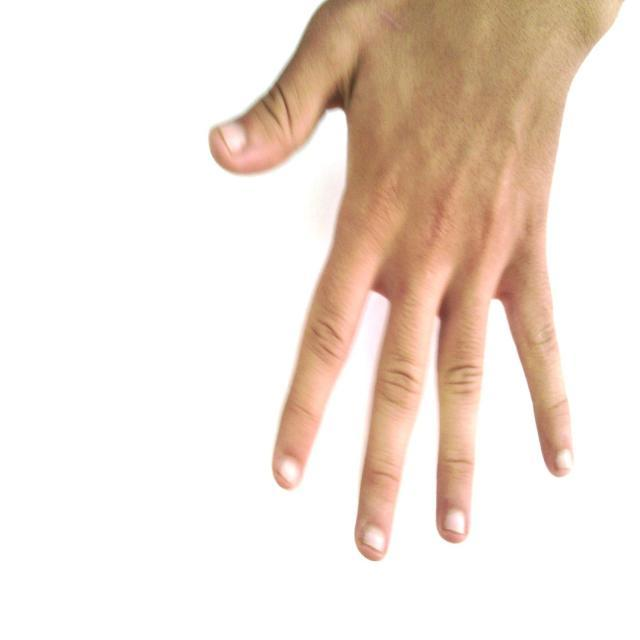Fingernail: (219, 123, 246, 153), (362, 522, 385, 552), (442, 509, 466, 534), (277, 456, 299, 483), (557, 449, 573, 468)
